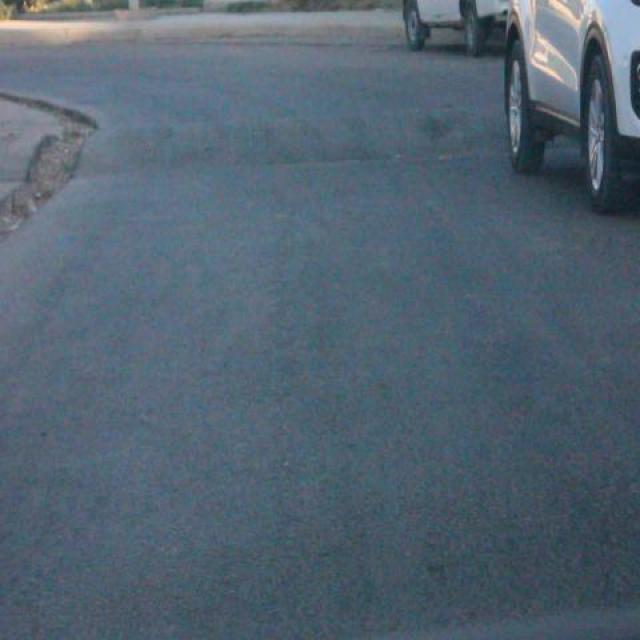Unmarked Bump: (72, 96, 506, 179)
